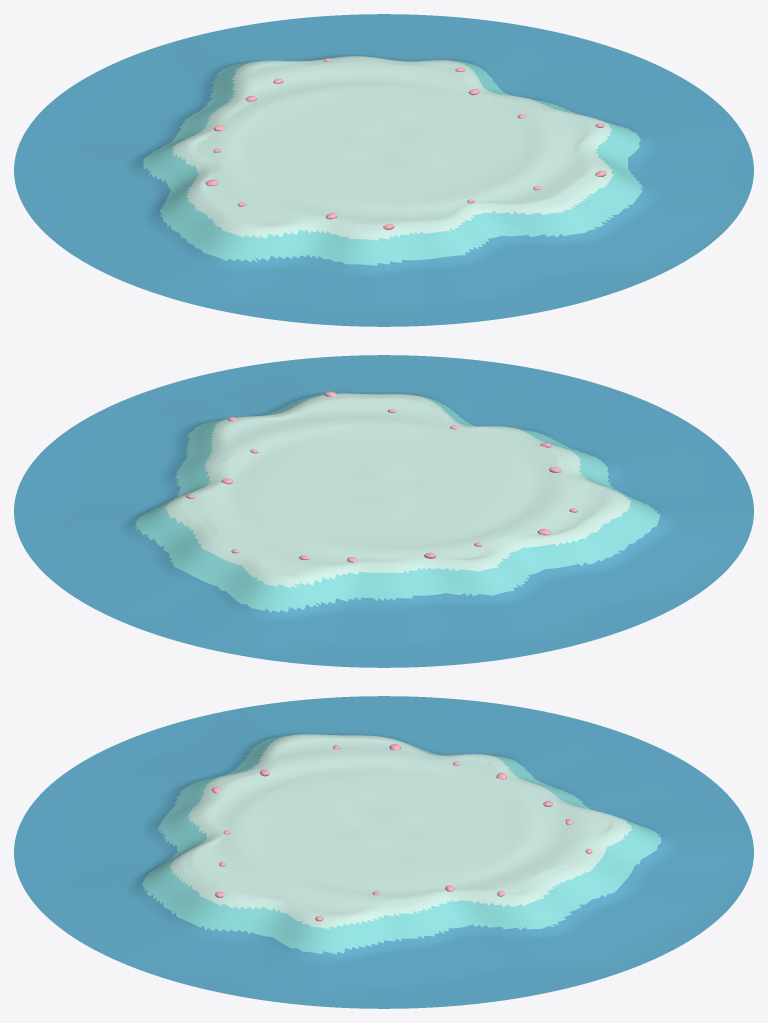
Rendered from BumperLagoon.glb.
3 views of the same model, one above another, from view 1: azimuth 30°, elevation 25°; view 2: azimuth 150°, elevation 25°; view 3: azimuth 270°, elevation 25° (orthographic).
Parts seen in each view (by area): view 1: Deep, Shelf, Reef, Coral; view 2: Deep, Shelf, Reef, Coral; view 3: Deep, Shelf, Reef, Coral.
Part boxes in pixels (x1=…): Deep: x1=14, y1=14, x2=753, y2=326; Shelf: x1=173, y1=56, x2=613, y2=240; Reef: x1=143, y1=56, x2=643, y2=265; Coral: x1=205, y1=58, x2=606, y2=229; Deep: x1=14, y1=355, x2=753, y2=667; Shelf: x1=165, y1=393, x2=630, y2=588; Reef: x1=134, y1=393, x2=660, y2=612; Coral: x1=186, y1=391, x2=577, y2=562; Deep: x1=14, y1=696, x2=753, y2=1008; Shelf: x1=170, y1=734, x2=631, y2=928; Reef: x1=142, y1=734, x2=661, y2=954; Coral: x1=212, y1=744, x2=592, y2=921.
Size of the model in its own units: 300 by 12.19 by 300.
